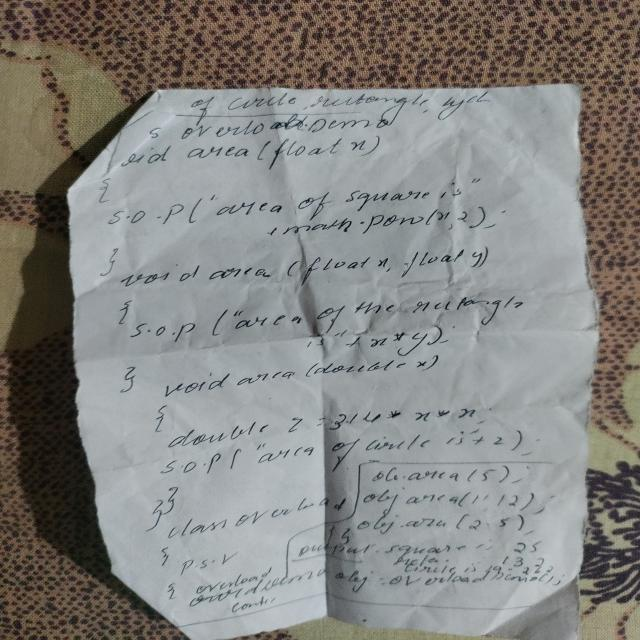paper: (70, 84, 582, 636)
